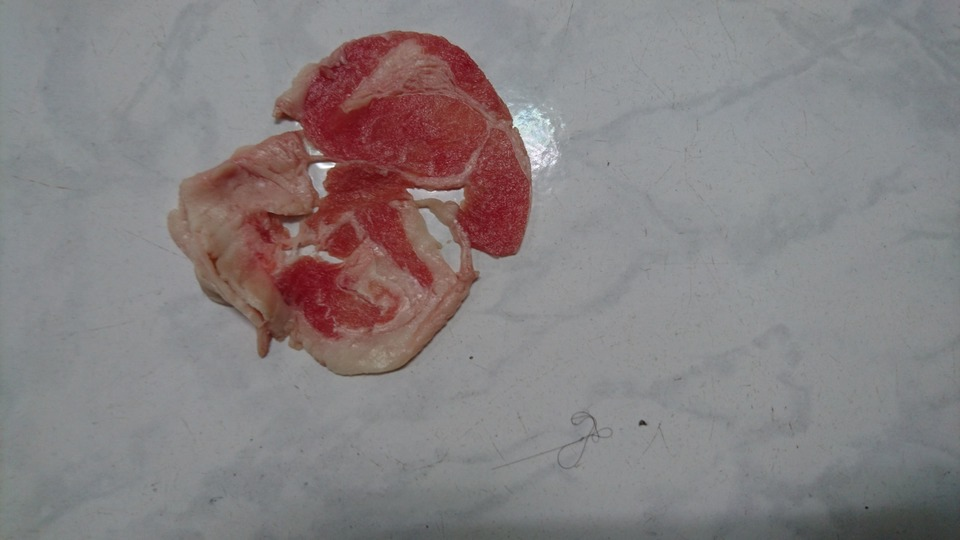restructured meat: (172, 28, 534, 374)
